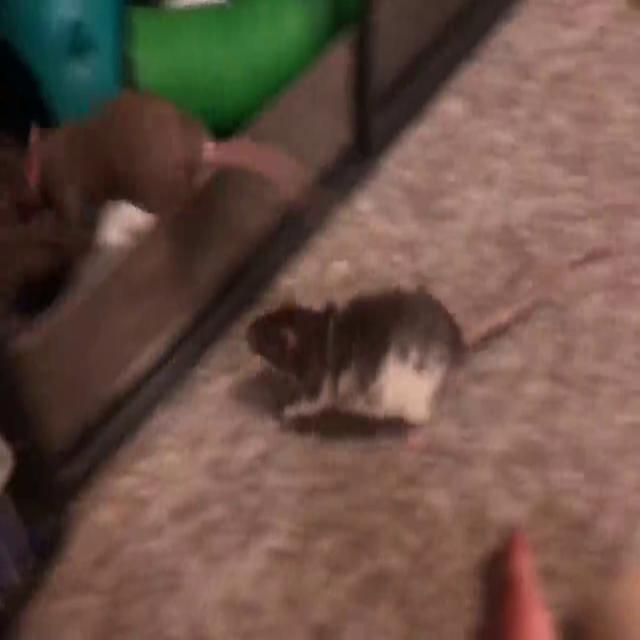rat: (242, 292, 487, 430)
